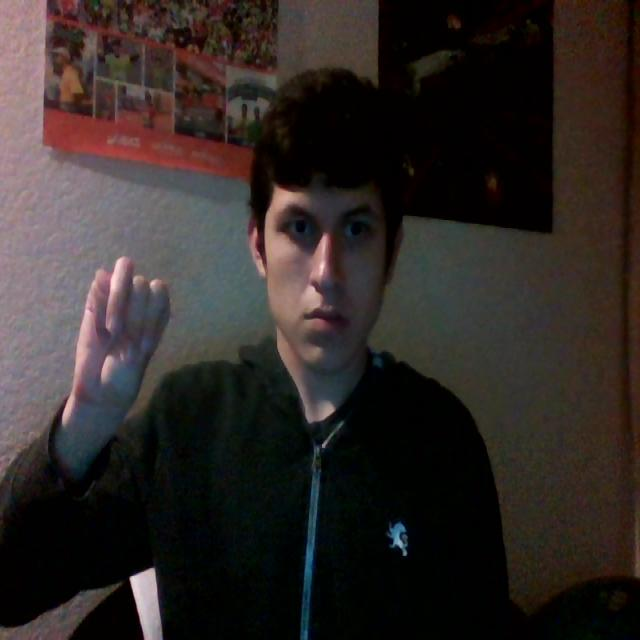M: (50, 239, 193, 437)
